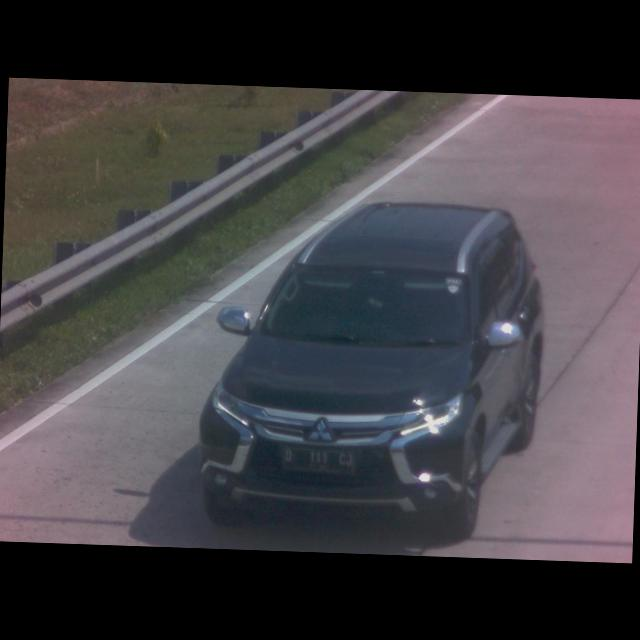plate: (280, 446, 358, 476)
